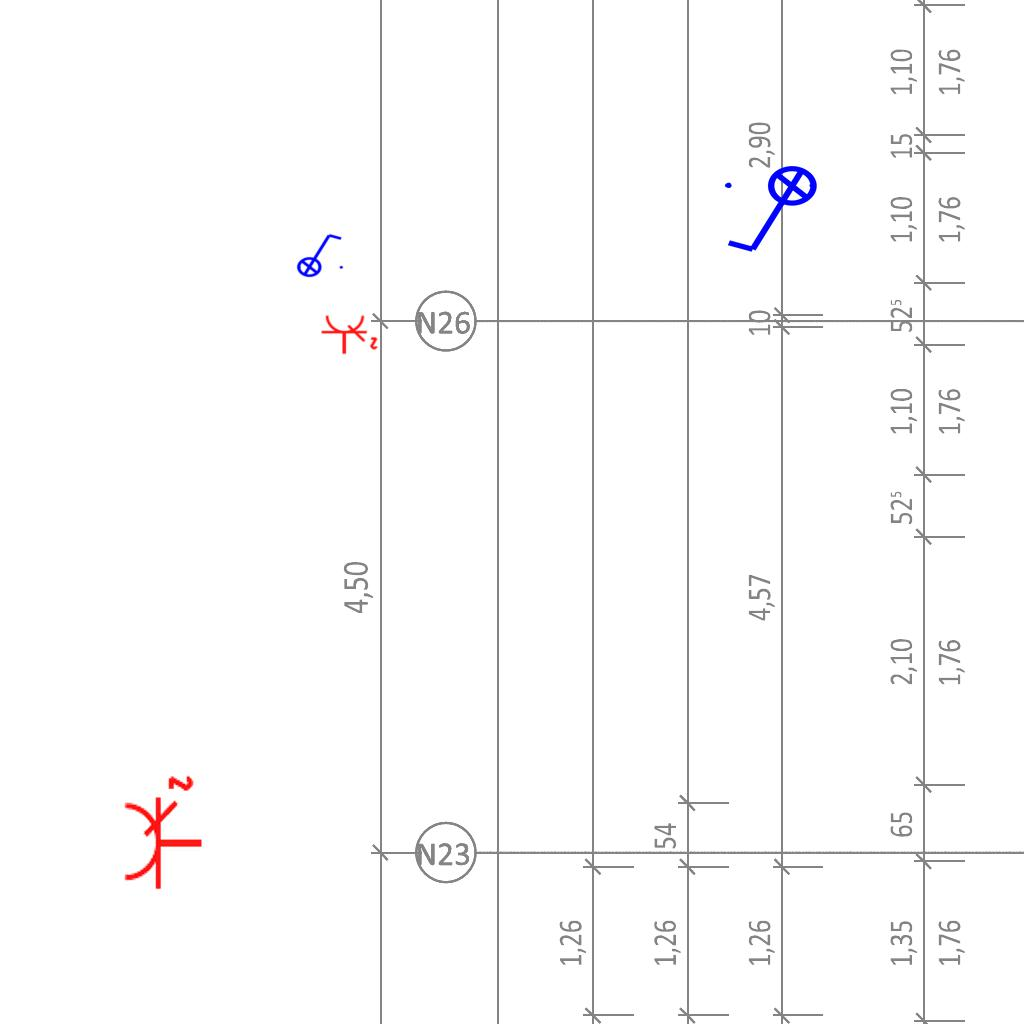Ausschalter_beleuchtet: (719, 164, 831, 260), (290, 230, 346, 278)
Schukosteckdose_mehrfach: (120, 773, 208, 894), (319, 313, 379, 357)
